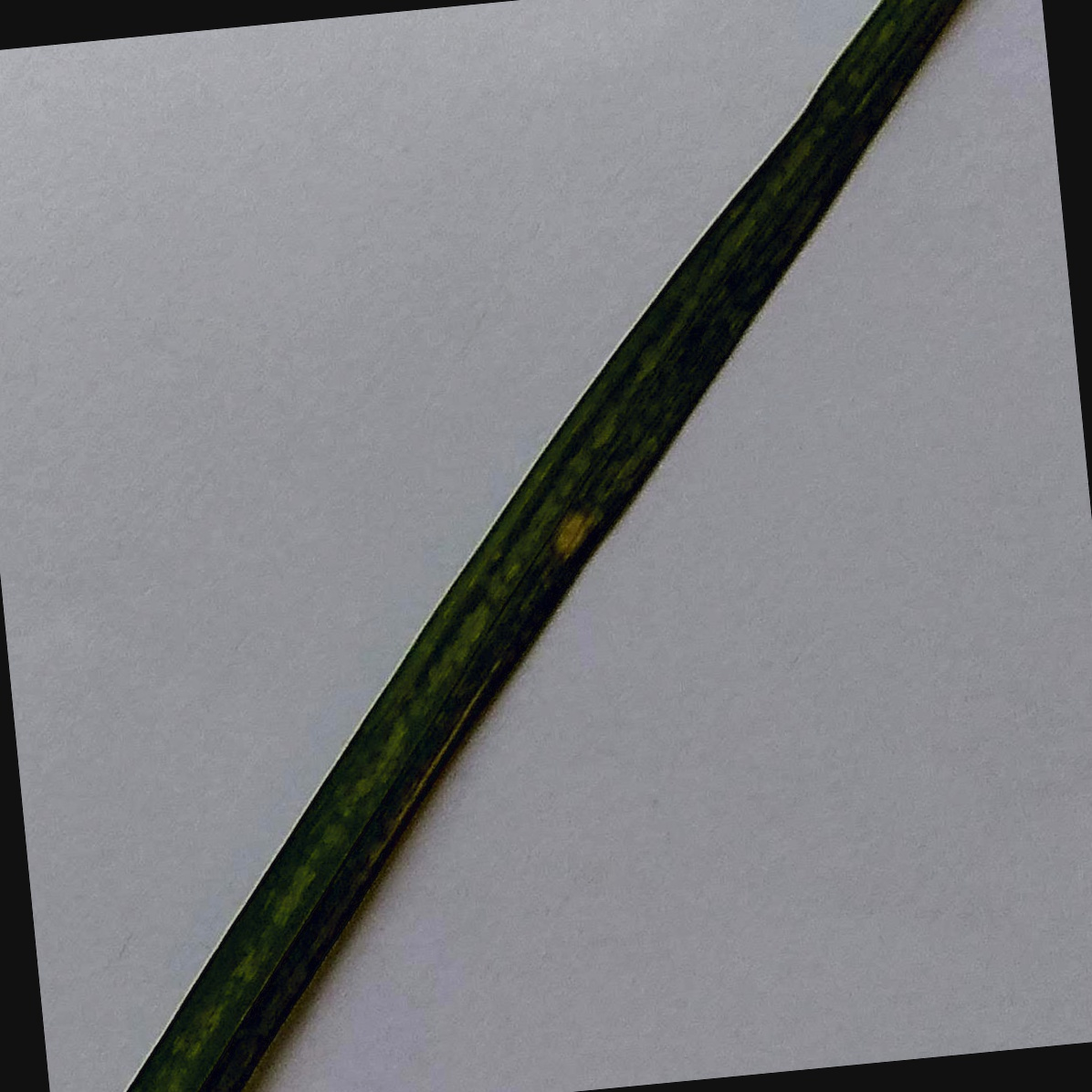Brown_Spot: (540, 495, 611, 571)
